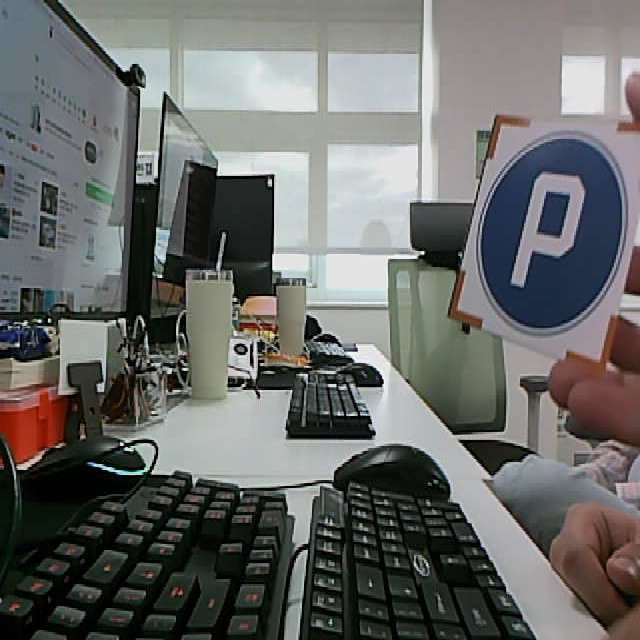parking: (449, 114, 640, 367)
